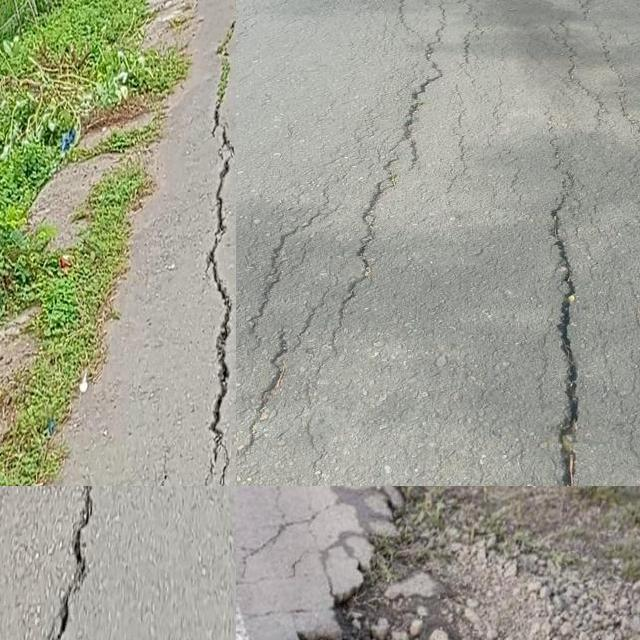Memanjang: (306, 19, 469, 427), (534, 162, 599, 486), (193, 0, 236, 486), (4, 486, 114, 640)
Pinggir: (289, 486, 508, 640)
